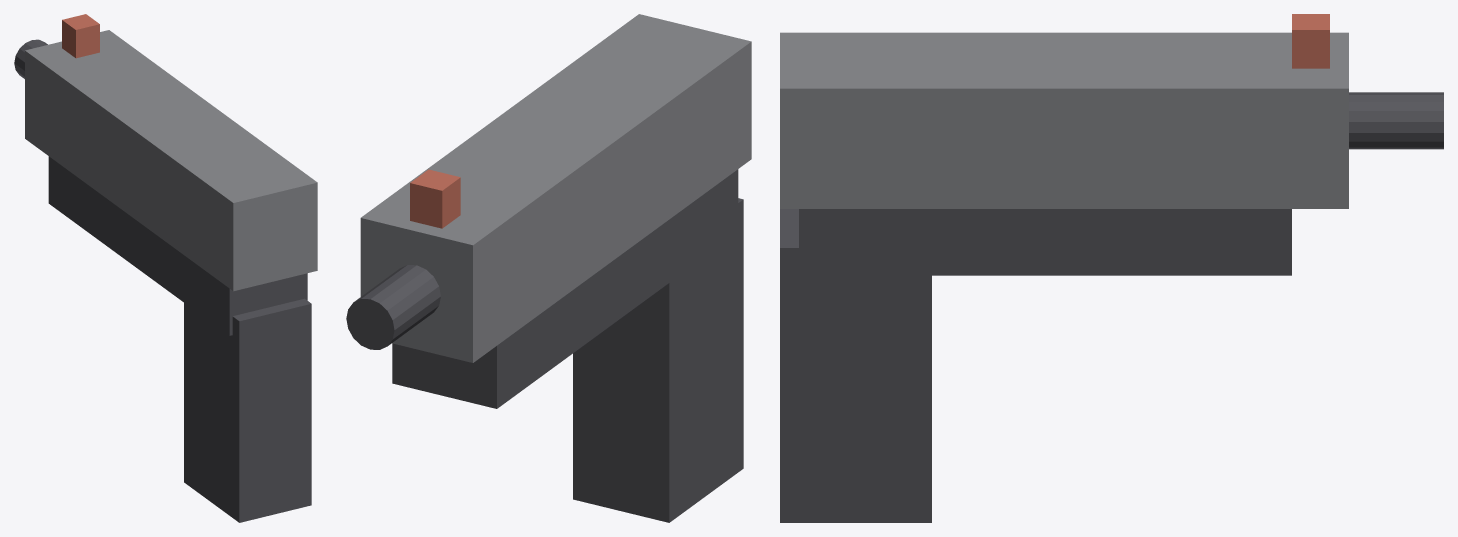
Rendered from pistola.glb.
3 renders of one model, left to right at view 1: azimuth 30°, elevation 25°; view 2: azimuth 150°, elevation 25°; view 3: azimuth 270°, elevation 25°, orthographic. The views are drawn at different scales.
Parts seen in each view (by area): view 1: corredera, empunadura, armazon, mira, canon; view 2: corredera, empunadura, armazon, canon, mira; view 3: corredera, empunadura, armazon, canon, mira.
Boxes of the visible parts, bbox=[...] form: corredera: bbox=[25, 30, 317, 291]; empunadura: bbox=[184, 298, 311, 522]; armazon: bbox=[48, 156, 307, 335]; mira: bbox=[62, 14, 99, 58]; canon: bbox=[14, 39, 47, 78]; corredera: bbox=[360, 14, 751, 362]; empunadura: bbox=[573, 198, 743, 522]; armazon: bbox=[392, 169, 738, 408]; canon: bbox=[346, 265, 440, 349]; mira: bbox=[410, 169, 460, 228]; corredera: bbox=[780, 32, 1348, 208]; empunadura: bbox=[780, 209, 931, 522]; armazon: bbox=[799, 209, 1291, 275]; canon: bbox=[1349, 92, 1443, 149]; mira: bbox=[1292, 14, 1329, 68].
Bounding box in the file's own units: 0.07 × 0.2775 × 0.35.
